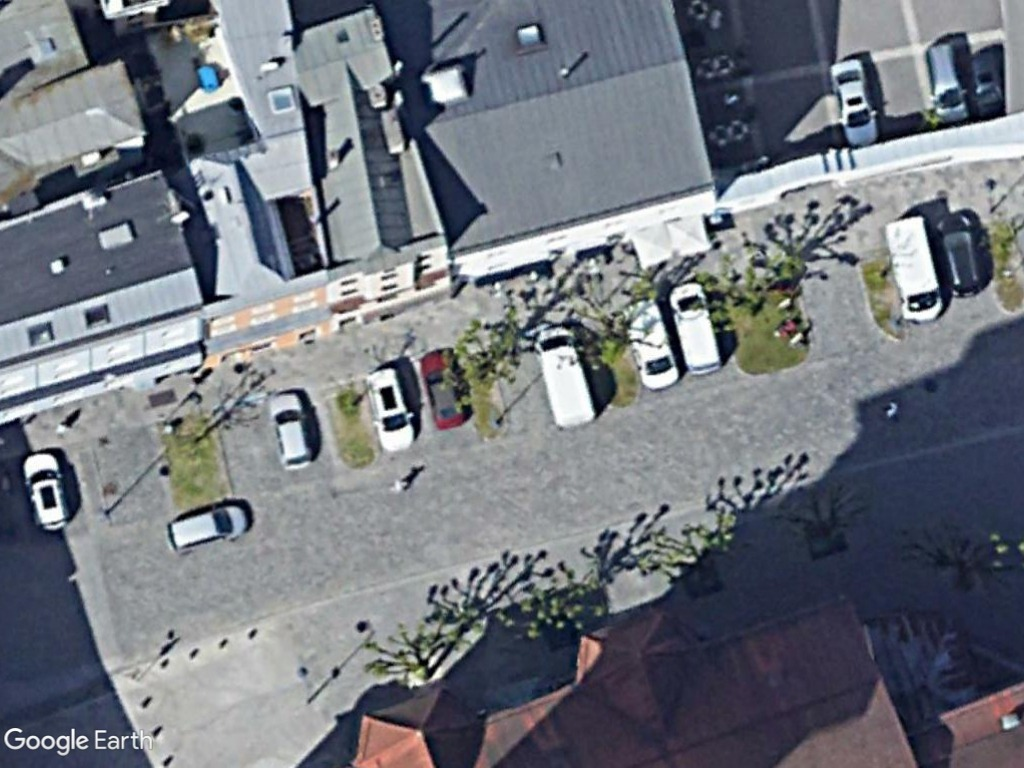car: (363, 357, 420, 462), (16, 448, 81, 540), (165, 496, 254, 559), (825, 55, 883, 150), (261, 384, 319, 477), (933, 207, 988, 303), (921, 33, 972, 129)
van: (880, 207, 952, 329), (533, 318, 600, 436), (664, 278, 726, 381)
